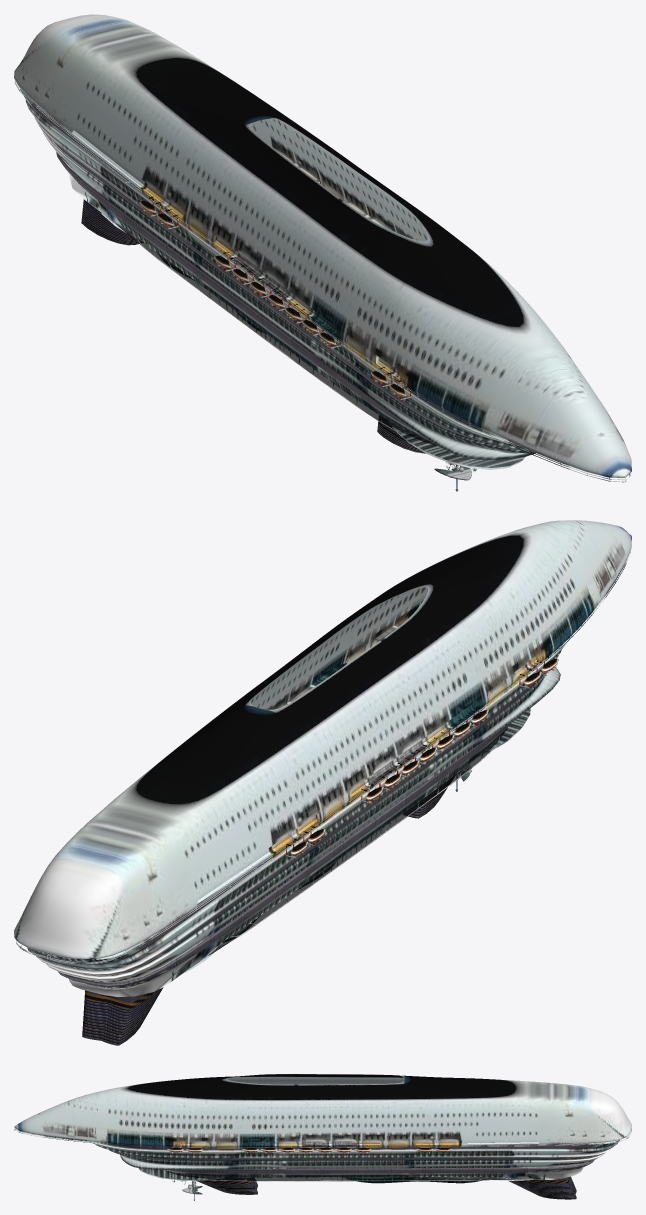
The model's file is m2un5jnd8d-cruisership2012.glb.
3 renders of one model, top to bottom at view 1: azimuth 30°, elevation 25°; view 2: azimuth 150°, elevation 25°; view 3: azimuth 270°, elevation 25°, orthographic. The views are drawn at different scales.
Visible parts, largest first — view 1: Node1; view 2: Node1; view 3: Node1.
Part boxes in pixels (bbox=[...]): Node1: bbox=[14, 14, 631, 491]; Node1: bbox=[14, 520, 631, 1045]; Node1: bbox=[14, 1074, 631, 1200].
Bounding box in the file's own units: 58.55 × 79 × 364.
8 materials, 6 textured.
